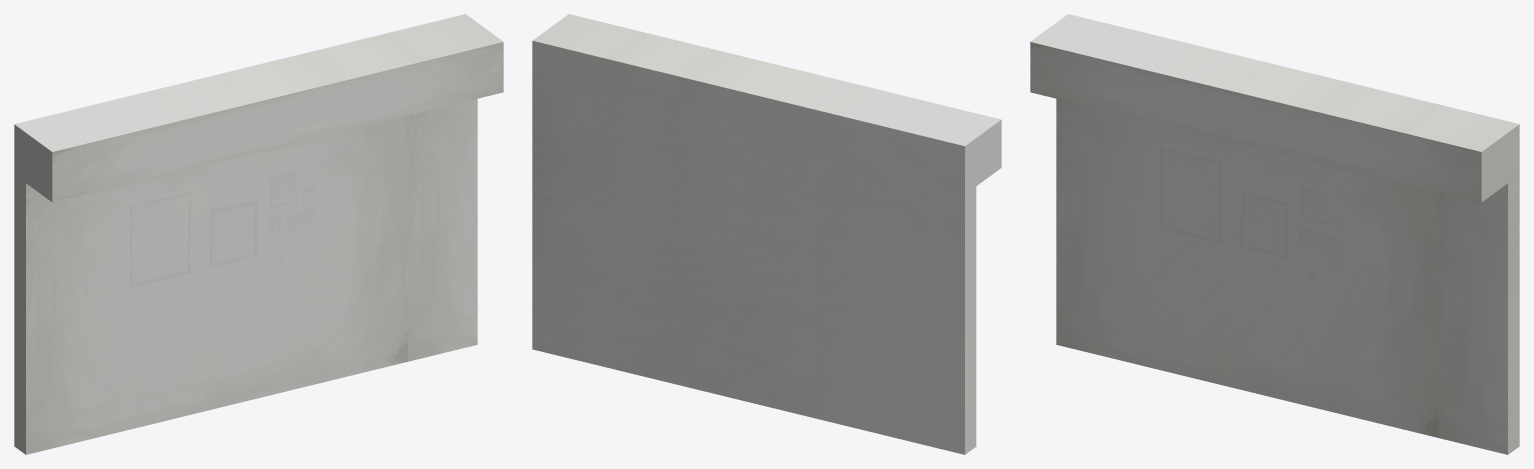
File: sidewall4-4.fbx
3 renders of one model, left to right at view 1: azimuth 30°, elevation 25°; view 2: azimuth 150°, elevation 25°; view 3: azimuth 330°, elevation 25°, orthographic. The views are drawn at different scales.
Parts seen in each view (by area): view 1: sidewall4; view 2: sidewall4; view 3: sidewall4.
Boxes of the visible parts, box(x1,y1,x2,y2) form: sidewall4: box(14, 14, 503, 454); sidewall4: box(532, 14, 1001, 454); sidewall4: box(1030, 14, 1519, 454).
Size of the model in its own units: 4.4 by 0.6434 by 3.
Materials: 2 (2 with a texture image).
